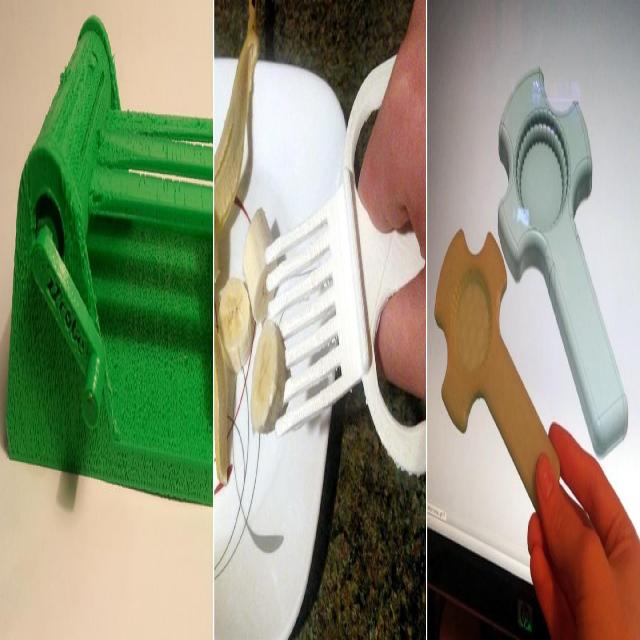Without deffect: (6, 7, 215, 537), (446, 70, 620, 527), (264, 152, 382, 474)
